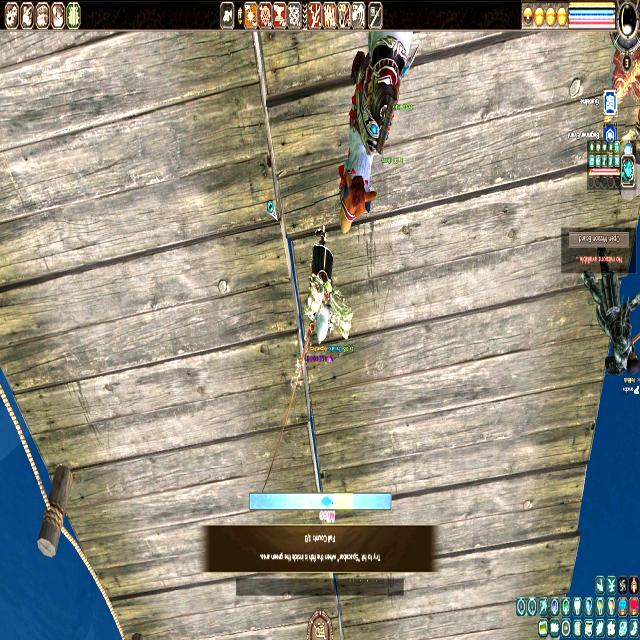fishes: (321, 494, 334, 508)
